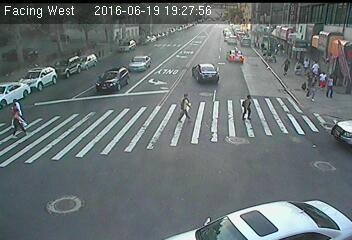neg: (89, 137, 123, 182), (189, 36, 207, 61), (73, 57, 90, 80), (244, 40, 261, 63), (132, 100, 149, 123), (220, 194, 237, 216), (223, 54, 239, 74), (166, 44, 177, 58)
pos: (174, 89, 199, 122), (5, 110, 28, 139), (240, 92, 262, 122), (324, 73, 345, 100), (276, 55, 293, 78)
